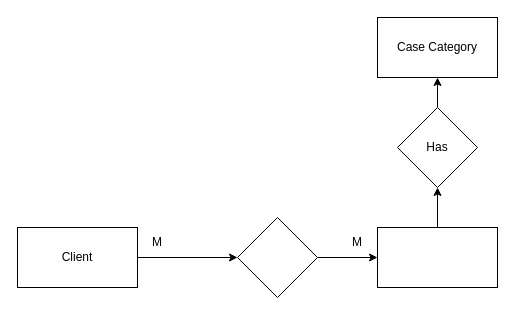
The diagram is 515 pixels wide and 315 high, and some of its shapes have lost their labels. Here are the shapes that lost their labels. From the top down, the box of each, then its label:
(236, 216, 318, 298): Has Many
(376, 226, 498, 288): Cases
